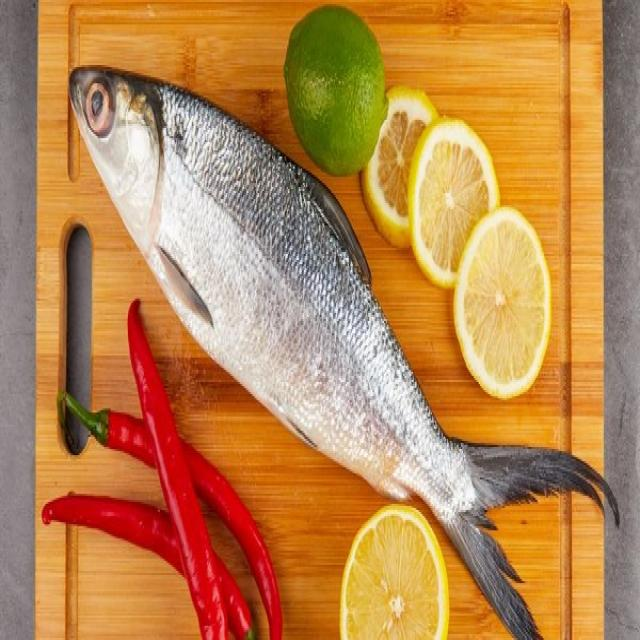Bangus: (63, 17, 552, 604)
